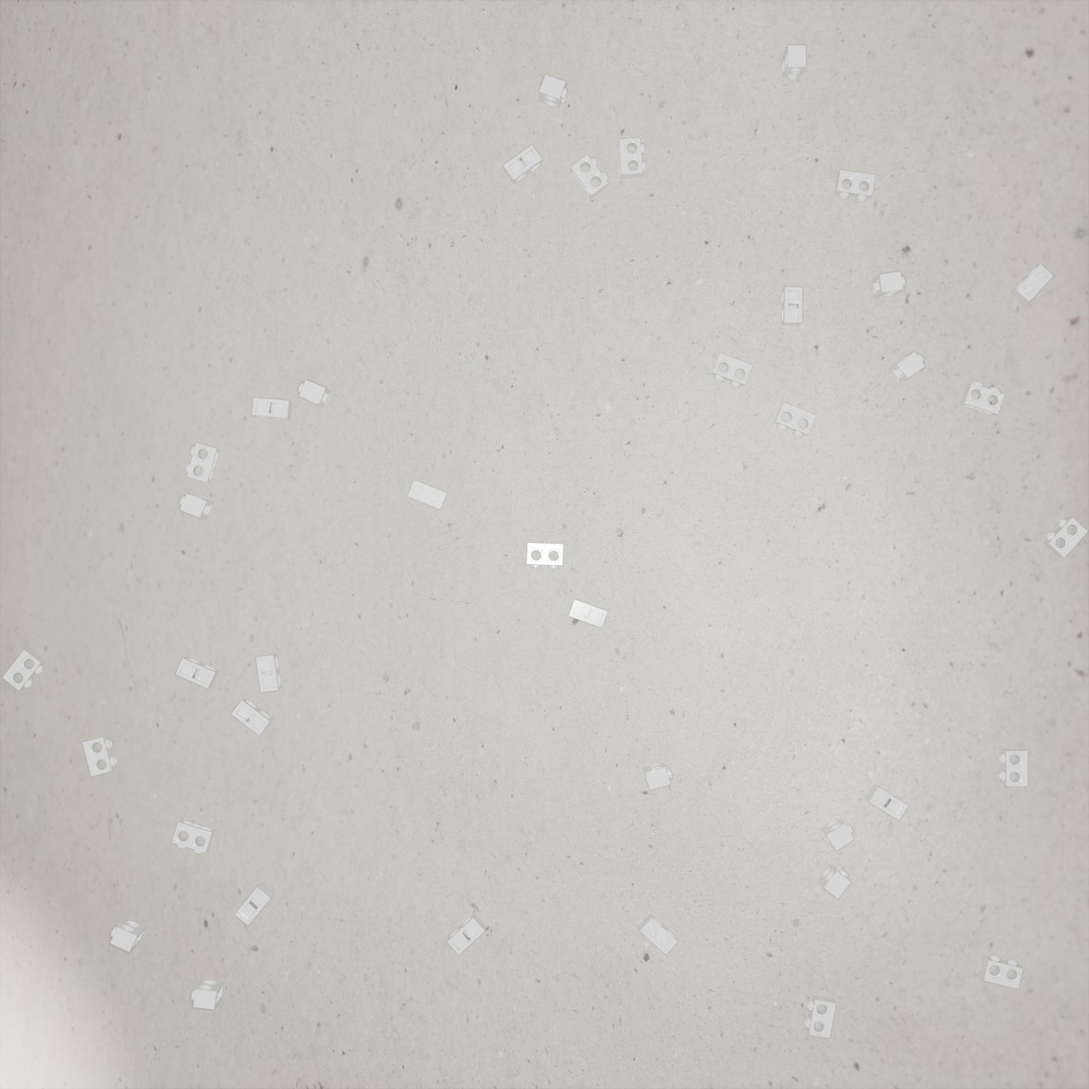lego: (2, 649, 46, 691), (1043, 517, 1088, 558), (1010, 264, 1053, 305), (570, 154, 609, 199), (234, 883, 274, 926), (447, 913, 486, 955), (639, 913, 678, 955), (231, 698, 274, 736), (865, 784, 909, 821), (773, 402, 817, 438), (960, 381, 1005, 416), (503, 145, 542, 185), (172, 819, 215, 854), (979, 955, 1023, 989), (711, 353, 753, 388), (82, 735, 117, 777), (175, 657, 219, 689), (185, 443, 220, 483), (804, 995, 836, 1038), (834, 170, 875, 201), (407, 480, 448, 510), (110, 918, 146, 952), (568, 599, 608, 628), (818, 864, 851, 899), (820, 818, 855, 851), (618, 138, 646, 179), (889, 351, 925, 382), (999, 749, 1028, 786), (256, 653, 282, 693), (191, 979, 224, 1010), (539, 74, 568, 109), (527, 543, 563, 569), (252, 397, 292, 420), (298, 380, 330, 408), (872, 271, 905, 298), (179, 493, 214, 518), (781, 287, 803, 326), (643, 762, 673, 790), (782, 45, 806, 80)
